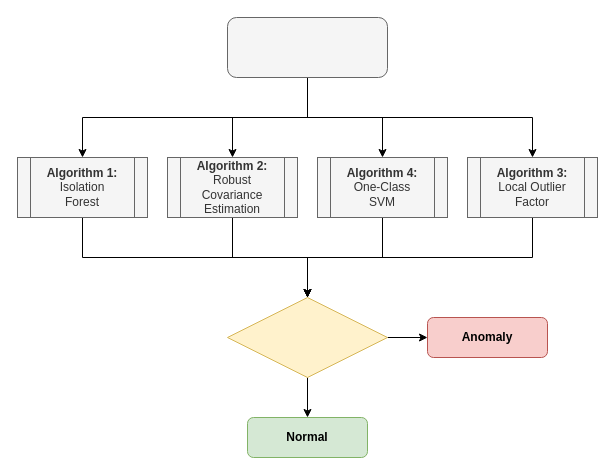
The diagram is 615 pixels wide and 475 high, and some of its shapes have lost their labels. The centre of each missing label's shape, as x and y in pixels:
"Observation" belongs at point 307,47.
"Sum scores" belongs at point 307,337.
